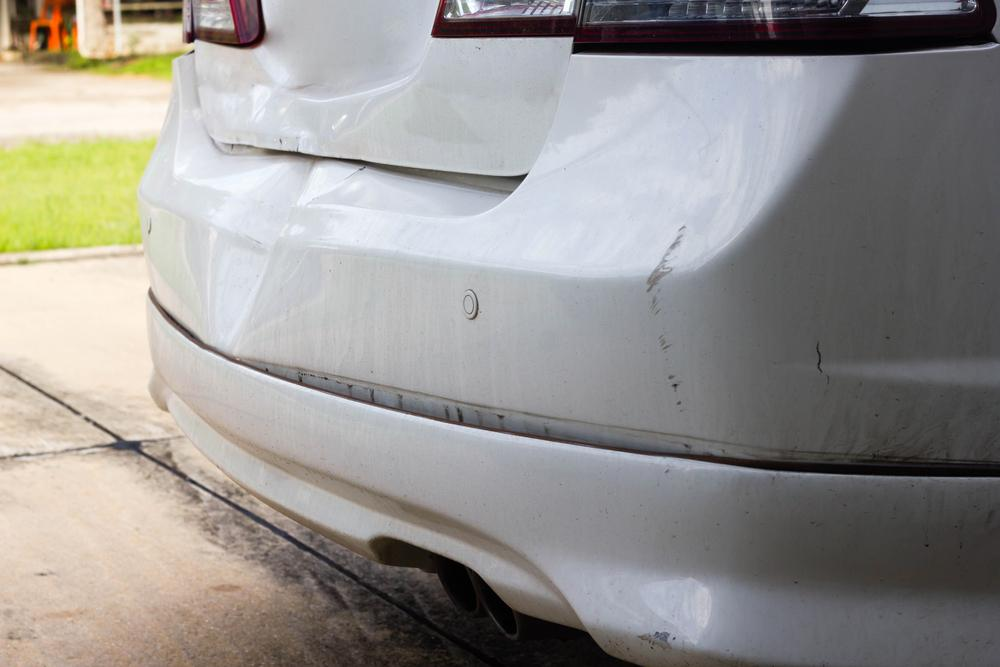dent: (217, 160, 360, 351)
scratch: (641, 223, 694, 425)
